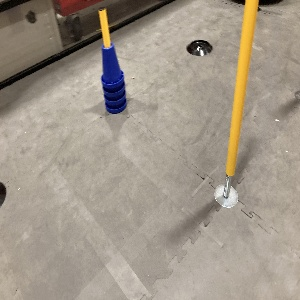Blue_4: (100, 43, 126, 113)
